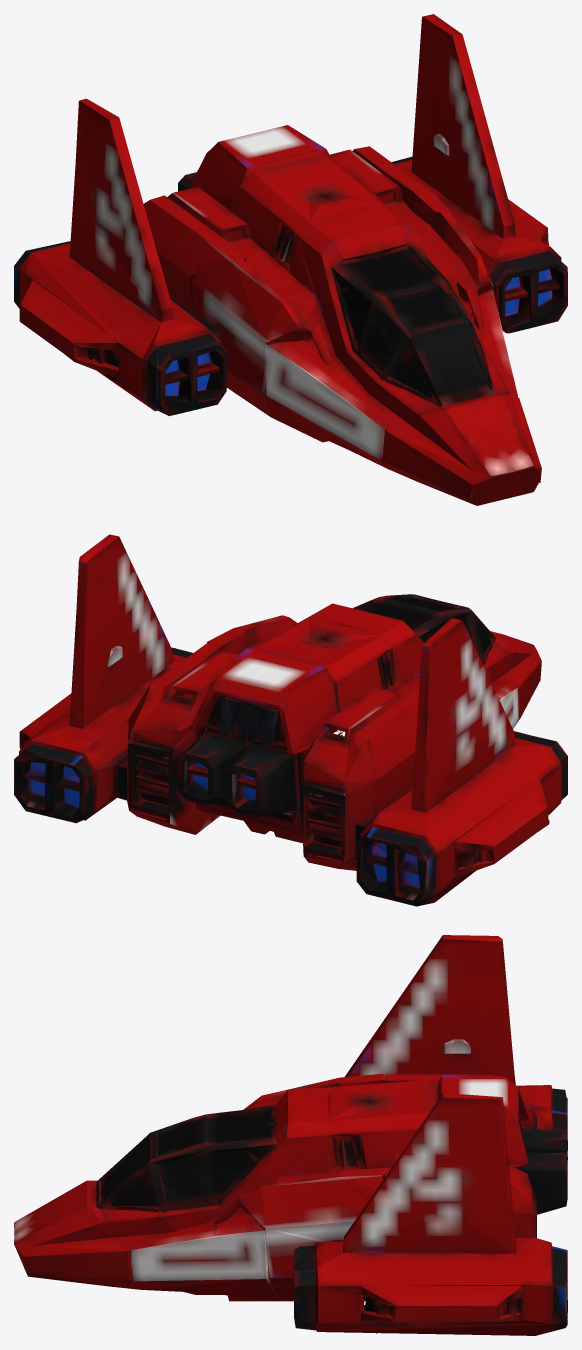
3 views of the same model, one above another, from view 1: azimuth 30°, elevation 25°; view 2: azimuth 150°, elevation 25°; view 3: azimuth 270°, elevation 25° (orthographic). The views are drawn at different scales.
Visible parts, largest first — view 1: world; view 2: world; view 3: world.
Boxes of the visible parts, bbox=[...] form: world: bbox=[14, 14, 567, 505]; world: bbox=[14, 534, 567, 906]; world: bbox=[14, 935, 567, 1335].
Bounding box in the file's own units: 0.9394 × 0.5257 × 1.
Materials: 1 (1 with a texture image).
